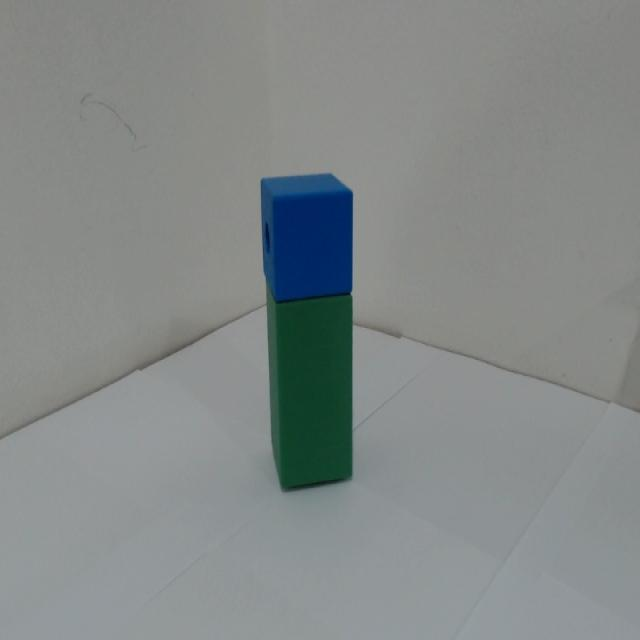cube: (240, 155, 379, 304)
